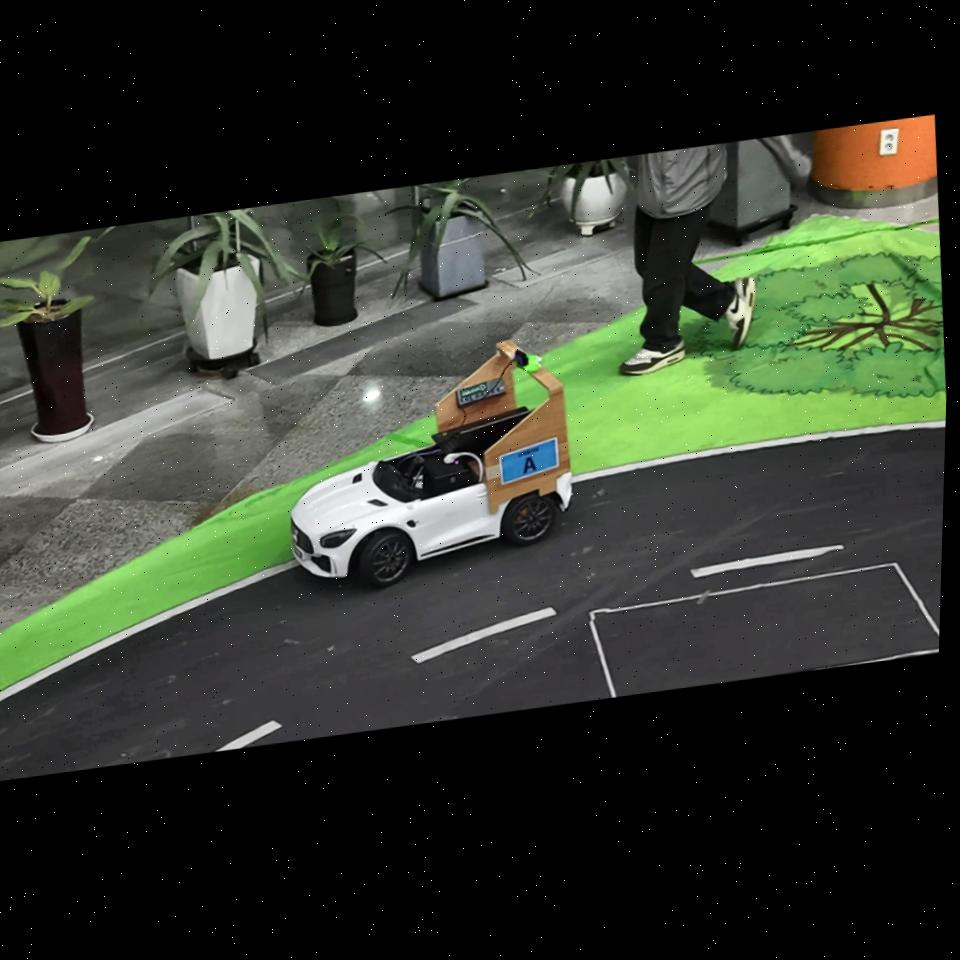broken_line: (410, 607, 558, 664), (691, 544, 844, 578), (215, 720, 283, 751)
